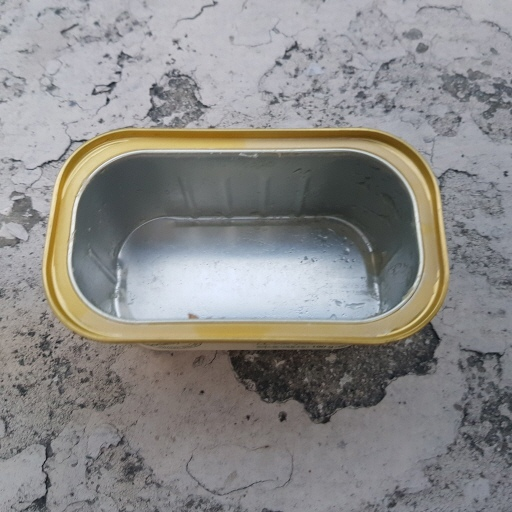Metal_2: (44, 124, 448, 351)
